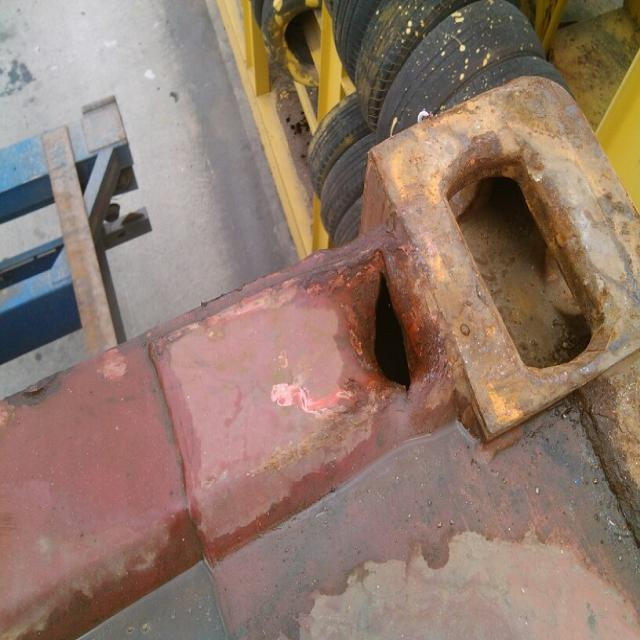hole: (324, 243, 449, 403)
